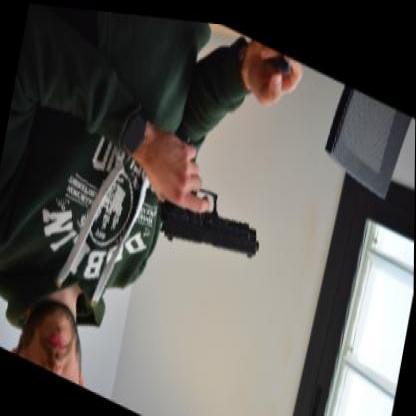pistol: (150, 119, 272, 276)
